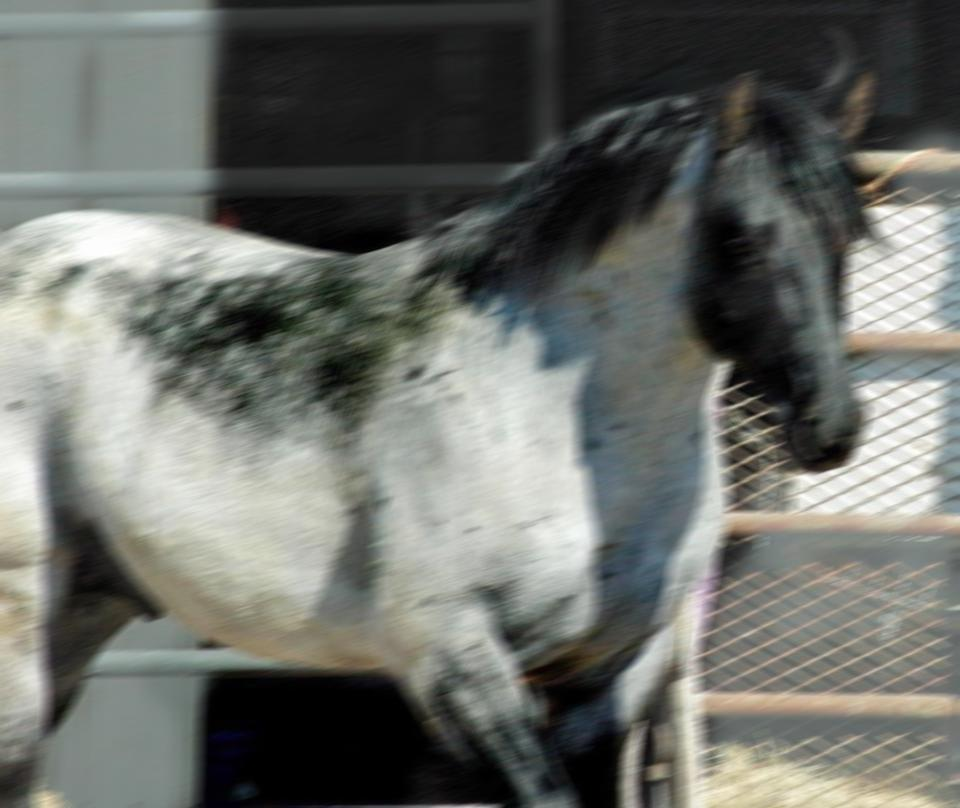horse: (0, 24, 898, 805)
